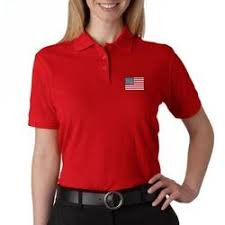S_polo shirt: (18, 28, 207, 184)
